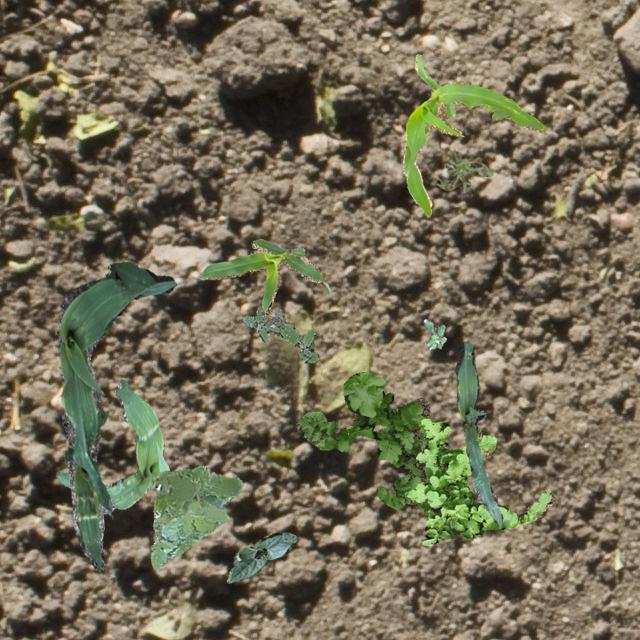crop: (56, 262, 176, 570), (402, 54, 546, 214), (54, 378, 168, 508), (198, 238, 328, 316), (454, 342, 502, 526), (226, 532, 296, 582)
weed: (294, 370, 450, 512), (404, 416, 554, 544), (150, 464, 242, 568), (242, 306, 318, 362), (434, 150, 492, 190), (422, 317, 444, 348)
